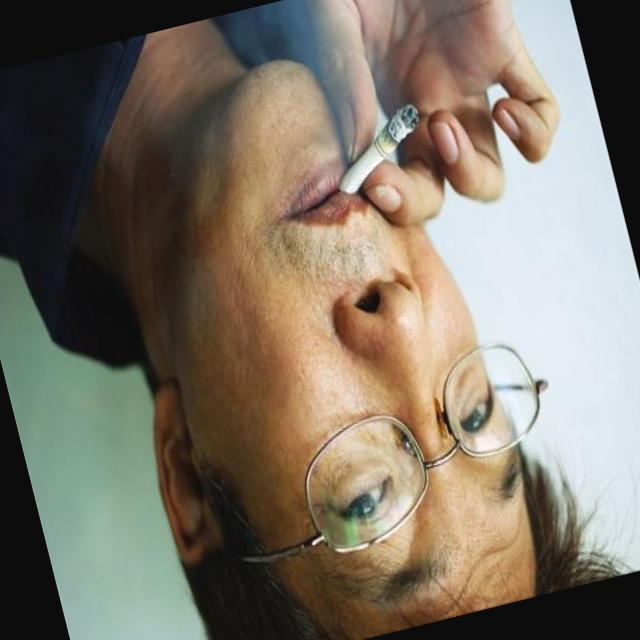cigarette: (305, 96, 438, 210)
